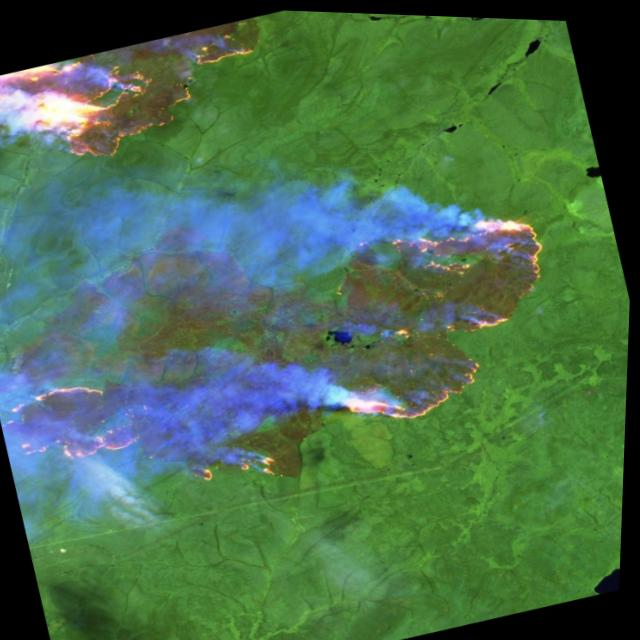fire: (0, 174, 601, 549), (0, 5, 288, 212)
